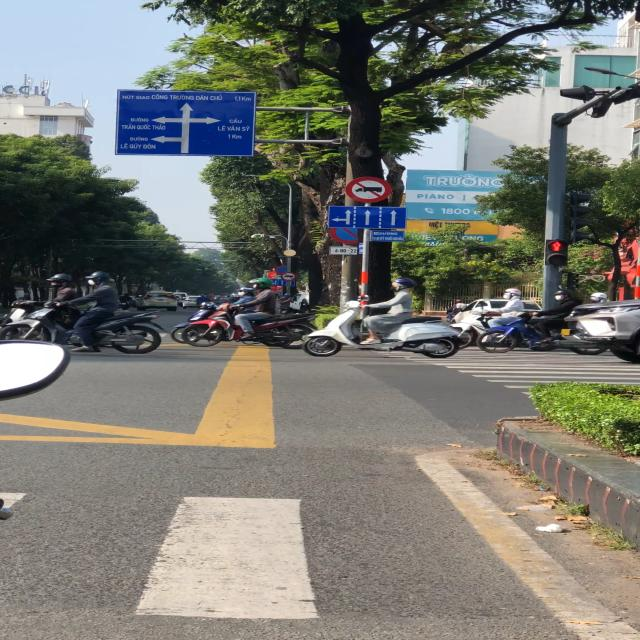Bien bao cam xe so-mi ro-mooc: (344, 174, 396, 204)
